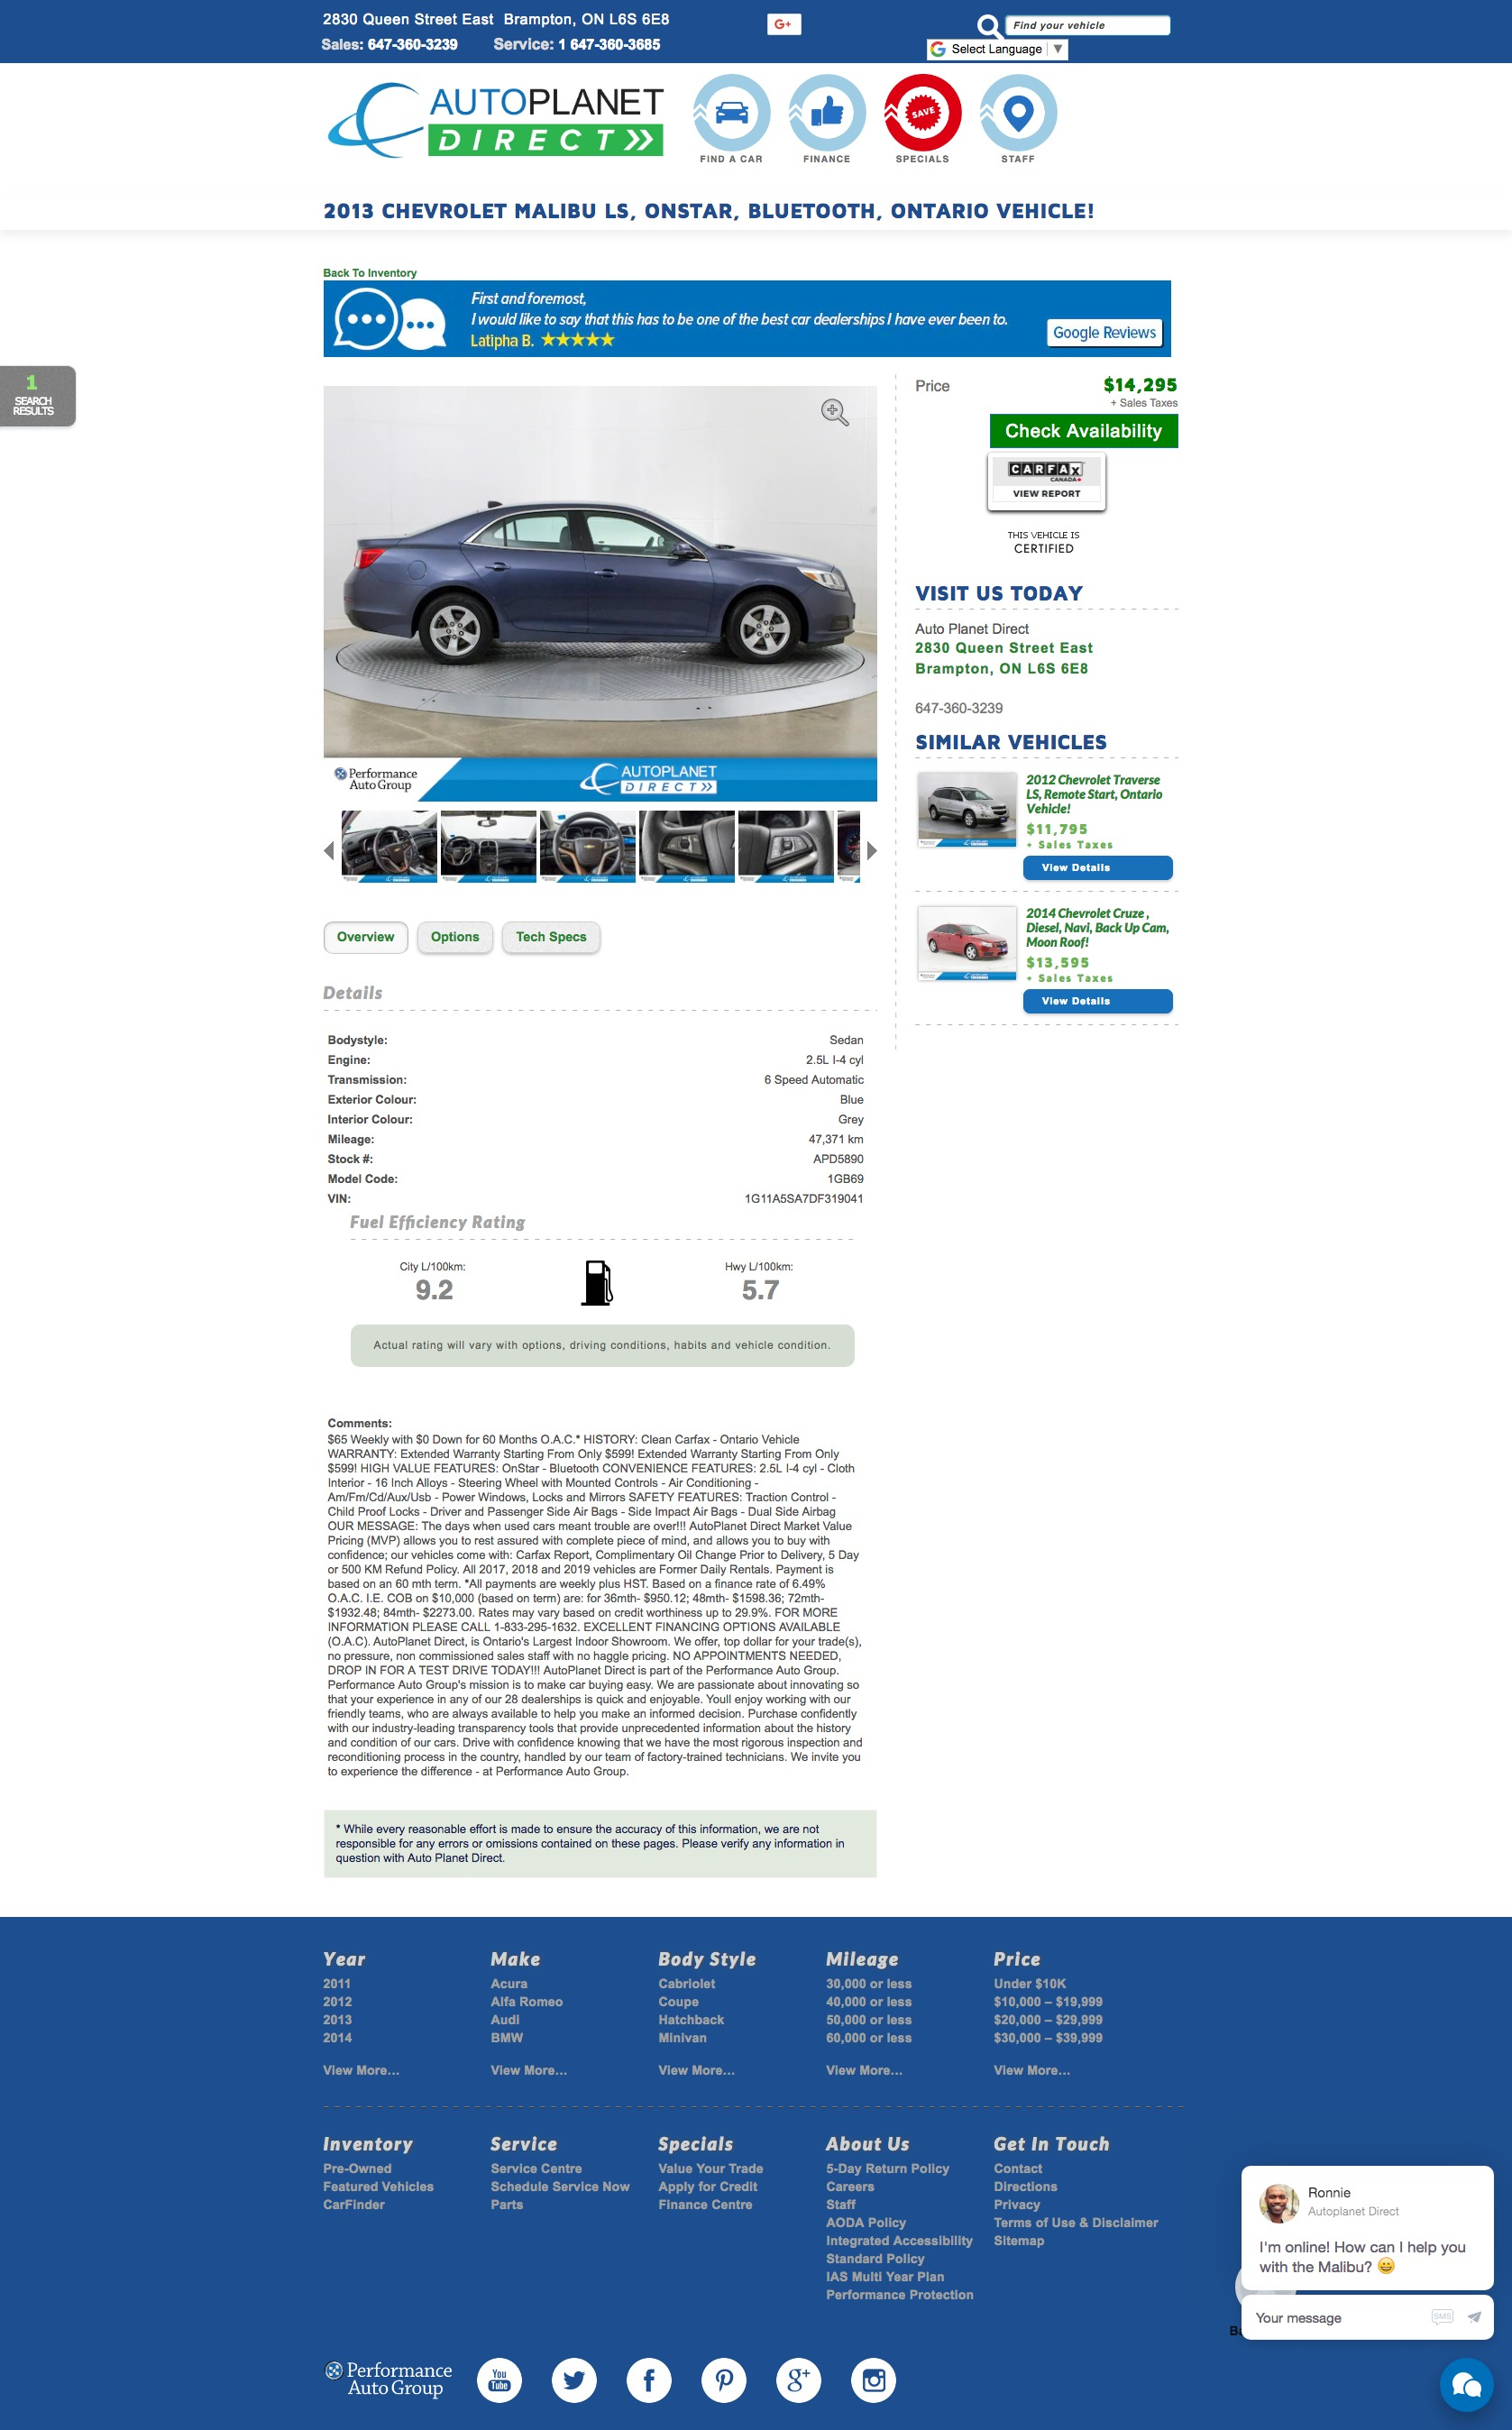car: (866, 841, 878, 861)
